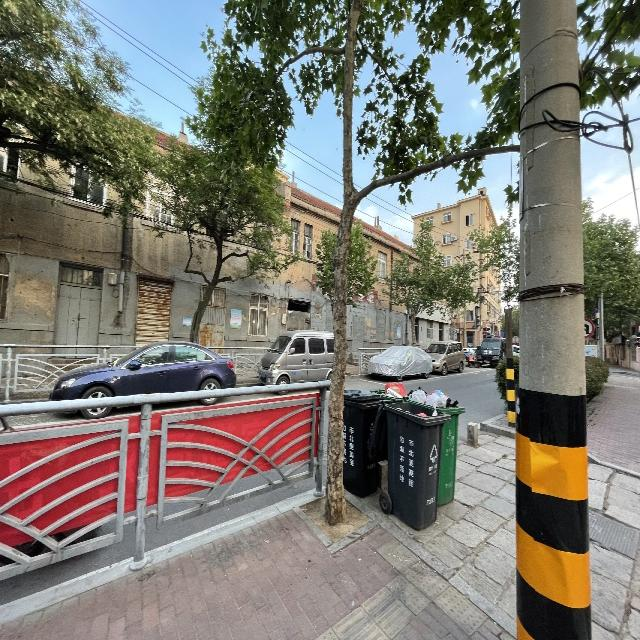garbage_bin: (383, 398, 451, 530), (341, 387, 388, 496)
overflow: (402, 387, 464, 505)
